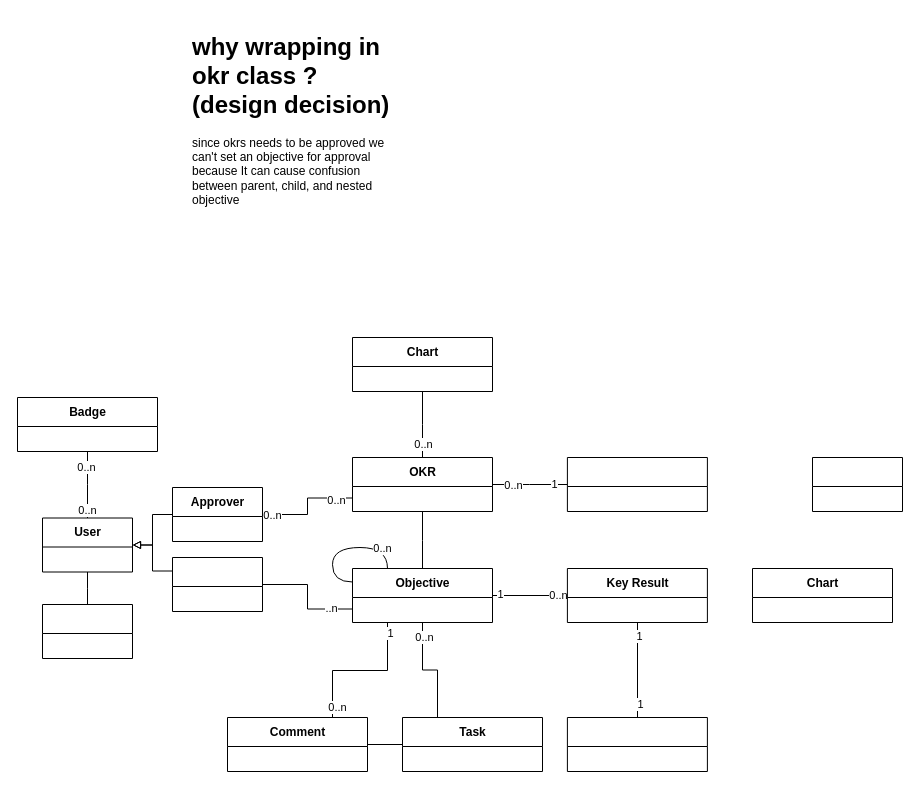
The diagram is 920 pixels wide and 789 high, and some of its shapes have lost their labels. The centre of each missing label's shape, as x and y in pixels:
Assignee: [857,484]
Metric: [636,744]
Owner: [217,584]
Session: [636,484]
Team: [87,631]
